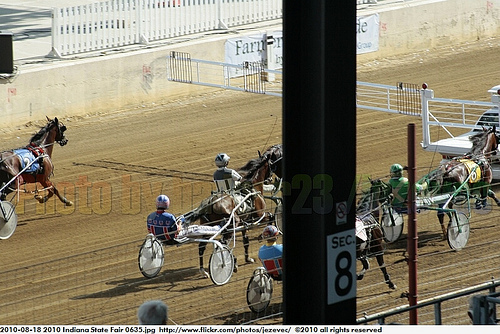horse: (187, 149, 275, 279), (425, 124, 500, 243), (1, 115, 72, 213), (355, 175, 397, 294)
